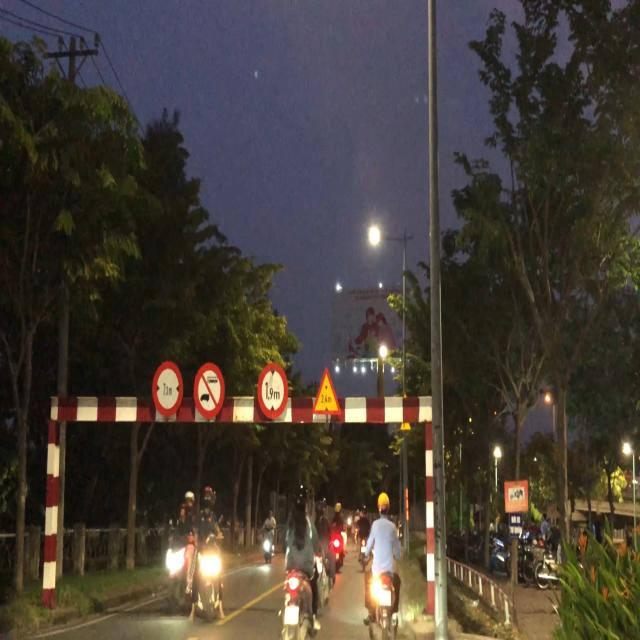Bien bao cam xe oto khach va xe oto tai: (193, 359, 227, 419)
Bien bao chieu cao tinh khong thuc te: (309, 362, 342, 420)
Bien bao han che chieu cao: (256, 356, 292, 425)
